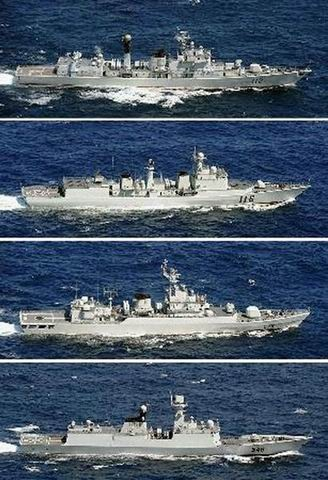warship: (7, 266, 312, 338), (11, 385, 303, 457), (9, 33, 313, 95), (20, 146, 310, 210)
